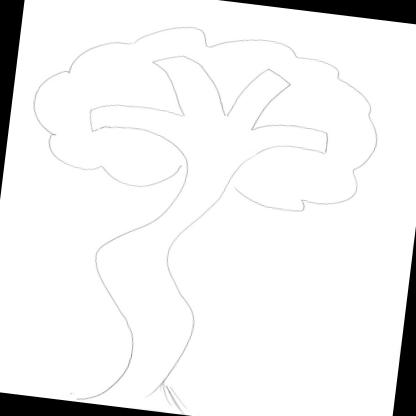branch_cut: (82, 46, 336, 188)
crown_cloud: (24, 9, 387, 220)
trunk_reflex: (80, 203, 208, 372)
